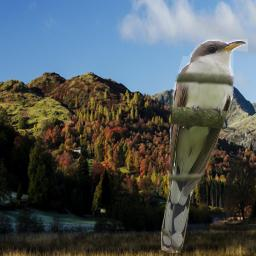Cuckoo: (161, 39, 248, 253)
